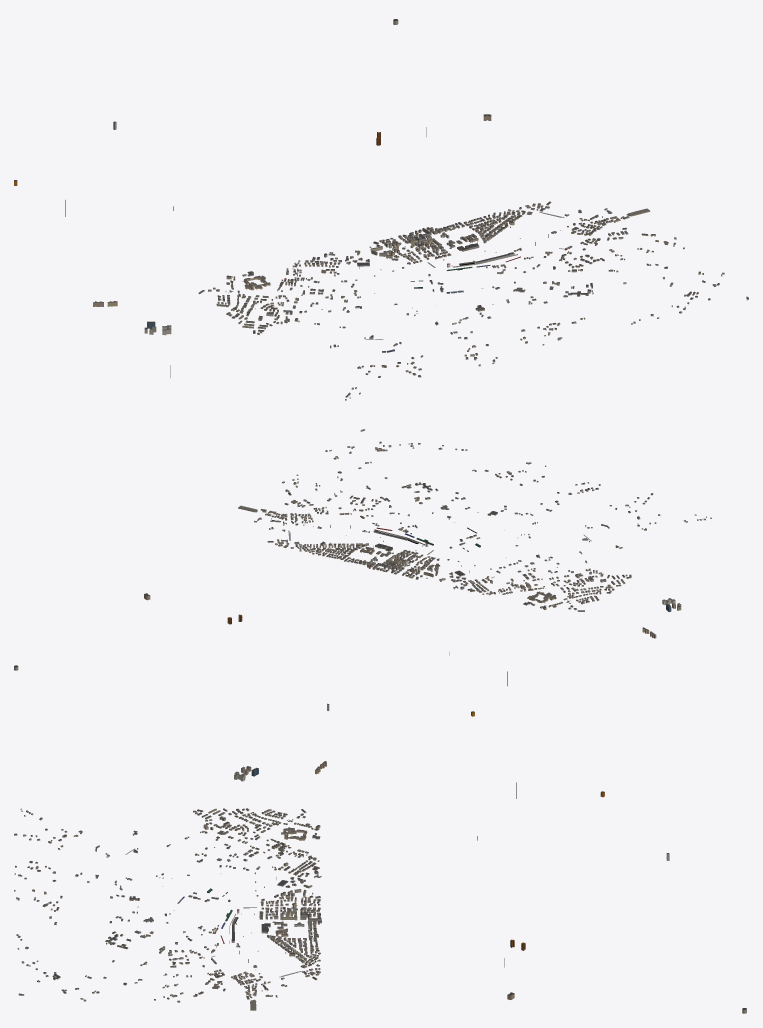
File: scenery.glb
The picture shows the model from 3 angles, top to bottom: view 1: azimuth 30°, elevation 25°; view 2: azimuth 150°, elevation 25°; view 3: azimuth 270°, elevation 25°; orthographic projection. The views are drawn at different scales.
Visible parts, largest first — view 1: chunk_15_13, chunk_15_12; view 2: chunk_15_13, chunk_15_12; view 3: chunk_15_13, chunk_15_12, chunk_12_13, chunk_17_12, chunk_16_12.
Boxes of the visible parts, x1=… form: chunk_15_13: x1=400, y1=240, x2=517, y2=270; chunk_15_12: x1=382, y1=227, x2=449, y2=249; chunk_15_13: x1=374, y1=529, x2=435, y2=565; chunk_15_12: x1=366, y1=555, x2=419, y2=577; chunk_15_13: x1=225, y1=899, x2=291, y2=943; chunk_15_12: x1=280, y1=899, x2=321, y2=926; chunk_12_13: x1=227, y1=822, x2=289, y2=849; chunk_17_12: x1=279, y1=952, x2=320, y2=979; chunk_16_12: x1=287, y1=925, x2=319, y2=953.
Bounding box in the file's own units: 3912 × 144 × 4817.
